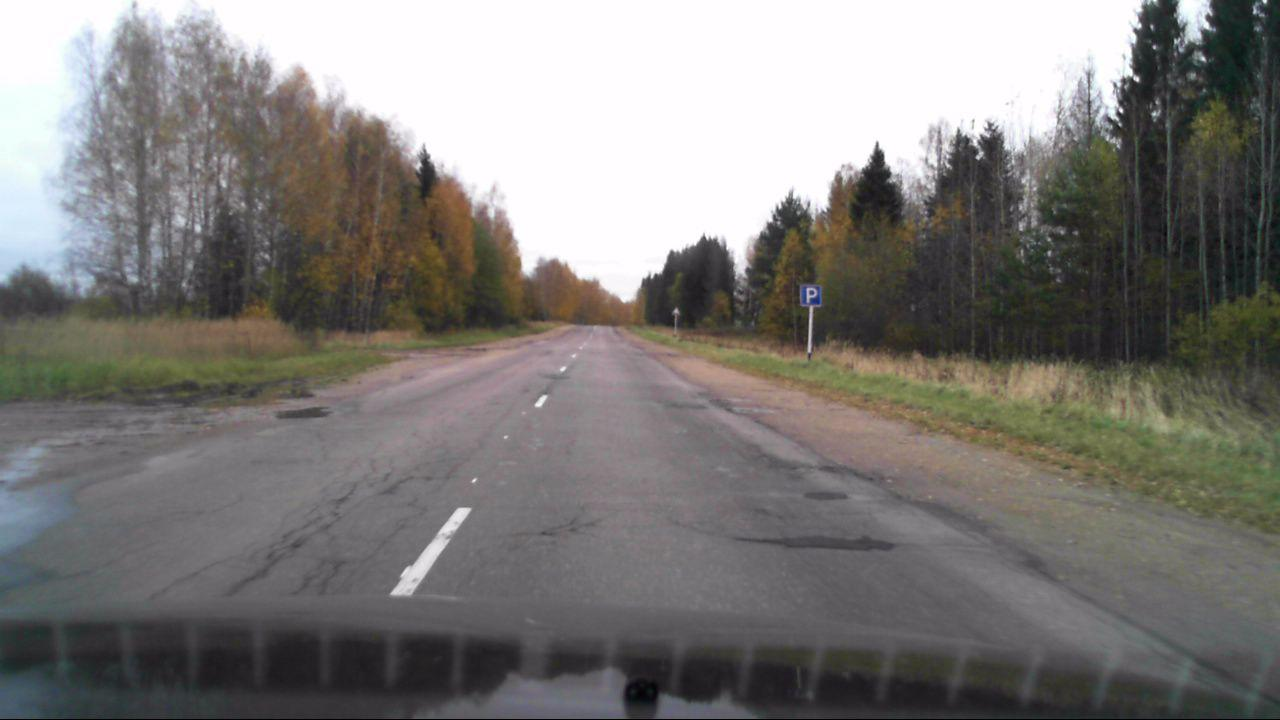6_4: (799, 283, 823, 306)
